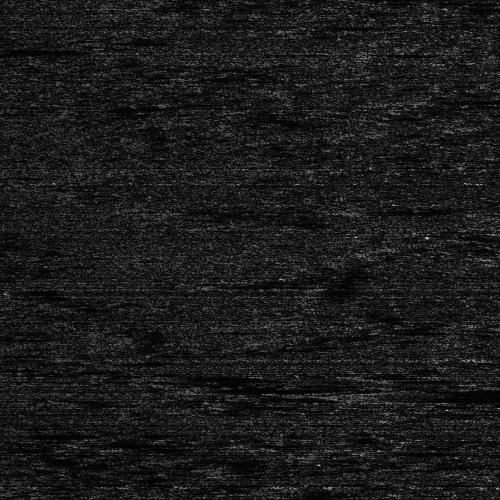object: (396, 96, 449, 105), (363, 389, 394, 398), (341, 207, 394, 212), (466, 355, 500, 360), (0, 45, 14, 52)
shadow: (423, 96, 481, 105), (0, 45, 64, 52), (368, 207, 450, 212), (379, 389, 406, 398)
